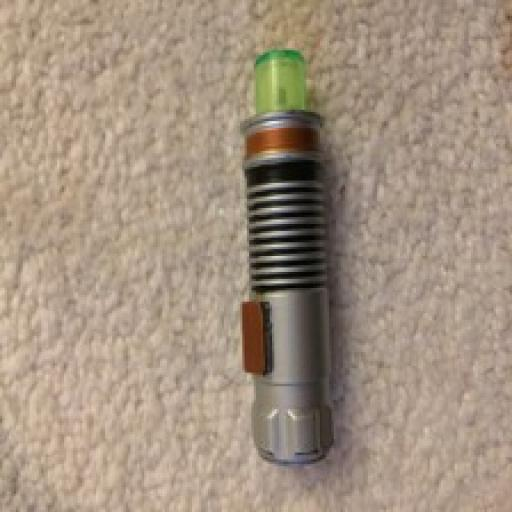lightsaber: (235, 47, 332, 466)
